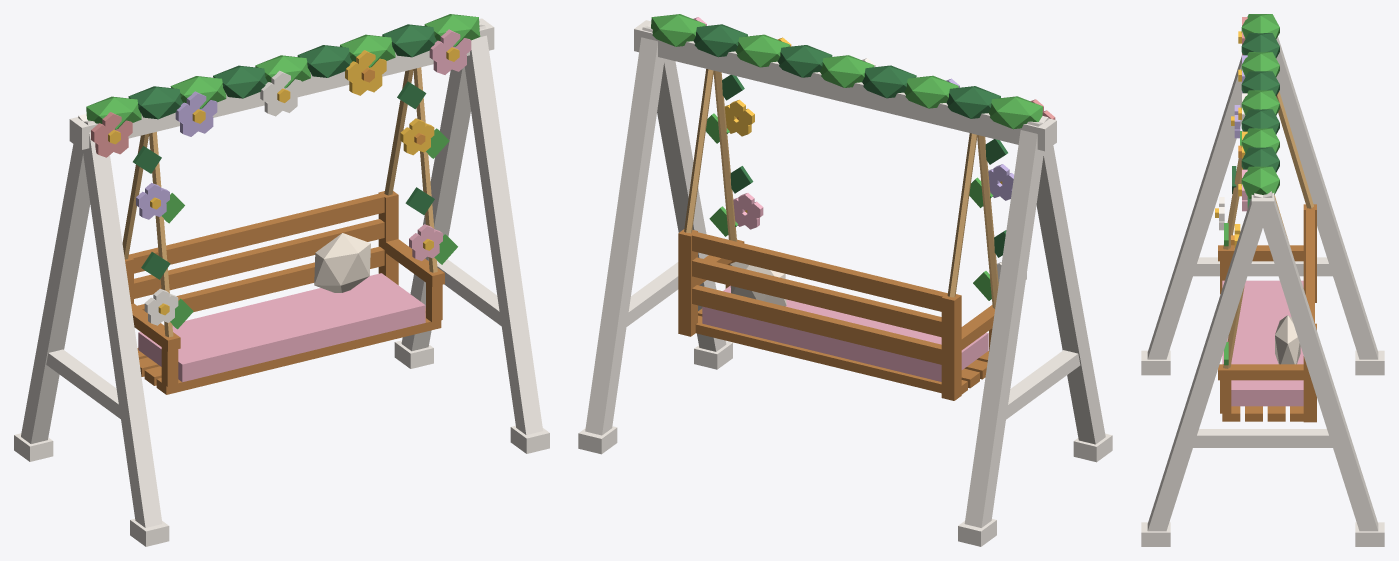
The model's file is CatCafe_Decor_GardenSwingSeat.glb.
The picture shows the model from 3 angles, left to right: view 1: azimuth 30°, elevation 25°; view 2: azimuth 150°, elevation 25°; view 3: azimuth 270°, elevation 25°; orthographic projection. The views are drawn at different scales.
Parts seen in each view (by area): view 1: CatCafe_Decor_GardenSwingSeat; view 2: CatCafe_Decor_GardenSwingSeat; view 3: CatCafe_Decor_GardenSwingSeat.
Part boxes in pixels (x1=…): CatCafe_Decor_GardenSwingSeat: x1=14, y1=14, x2=549, y2=546; CatCafe_Decor_GardenSwingSeat: x1=578, y1=14, x2=1112, y2=546; CatCafe_Decor_GardenSwingSeat: x1=1141, y1=14, x2=1384, y2=546.
Bounding box in the file's own units: 3.9 × 3.56 × 2.16.
Materials: 1 (1 with a texture image).
